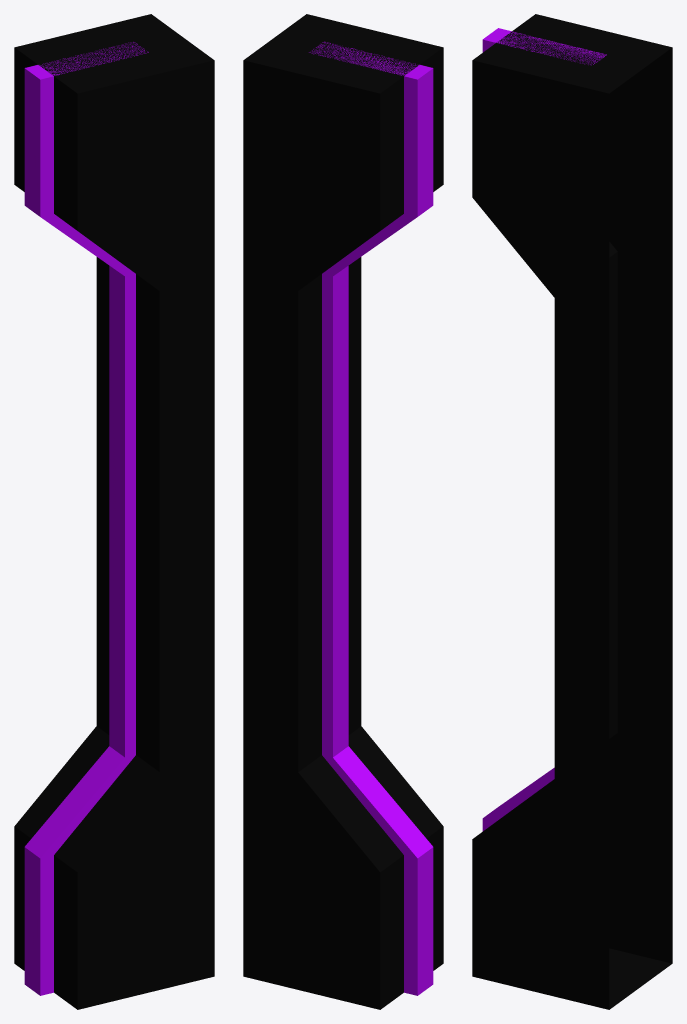
The model's file is wall_bracing.gltf.
3 renders of one model, left to right at view 1: azimuth 30°, elevation 25°; view 2: azimuth 150°, elevation 25°; view 3: azimuth 330°, elevation 25°, orthographic.
Visible parts, largest first — view 1: outer, inner; view 2: outer, inner; view 3: outer, inner.
Boxes of the visible parts, box(x1,y1,x2,y2) form: outer: box(14, 14, 214, 1009); inner: box(24, 42, 148, 995); outer: box(243, 14, 443, 1009); inner: box(309, 41, 433, 995); outer: box(472, 14, 672, 1009); inner: box(482, 28, 606, 831).
Size of the model in its own units: 0.6875 by 4 by 0.5.
